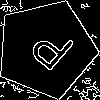P: (20, 24, 77, 80)
